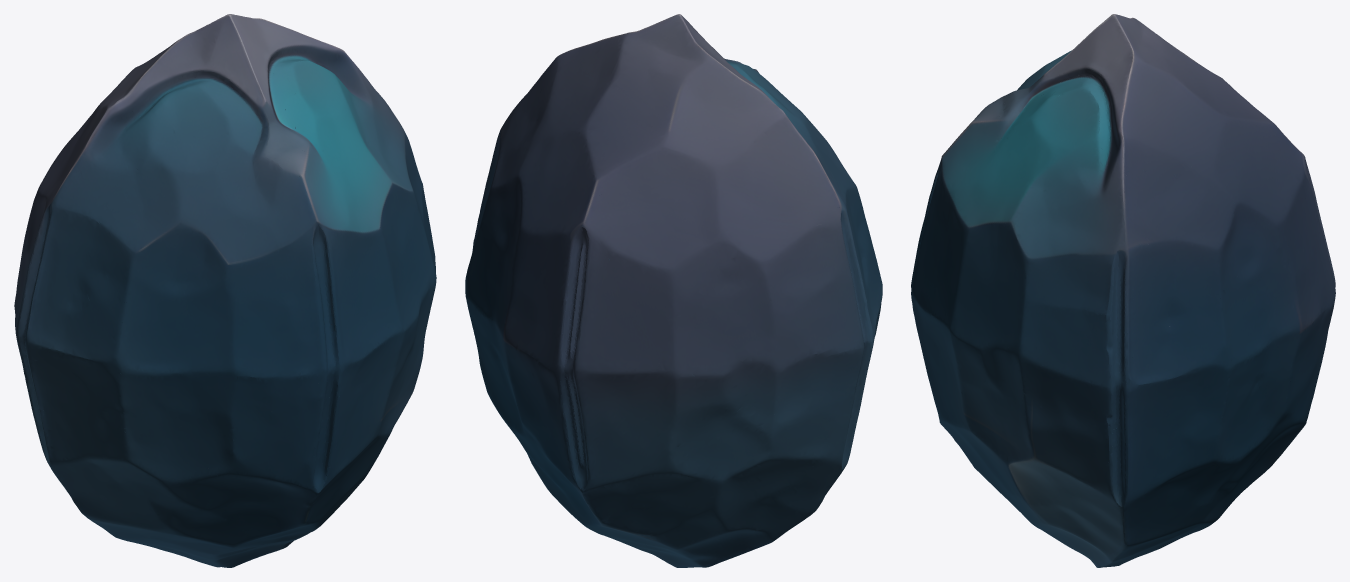
Rendered from base_basic_pbr.fbx.
The picture shows the model from 3 angles, left to right: view 1: azimuth 30°, elevation 25°; view 2: azimuth 150°, elevation 25°; view 3: azimuth 270°, elevation 25°; orthographic projection.
Parts seen in each view (by area): view 1: model; view 2: model; view 3: model.
Part boxes in pixels (x1=…): model: x1=14, y1=14, x2=436, y2=567; model: x1=465, y1=14, x2=882, y2=567; model: x1=911, y1=14, x2=1335, y2=567.
Size of the model in its own units: 143 by 190 by 133.
Materials: 1 (1 with a texture image).
